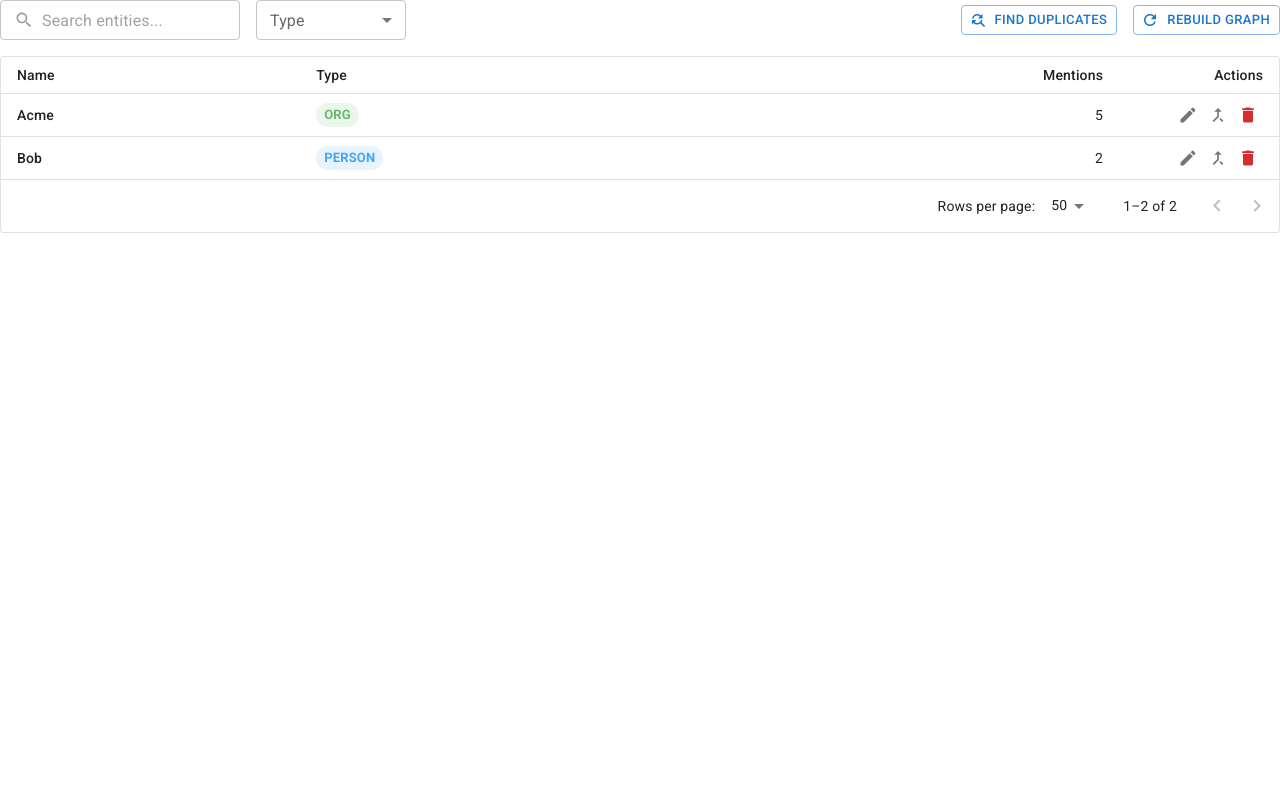
Test case: EntitiesPanel toolbox › find duplicates lists candidates and merging removes the pair
The width and height of the screenshot is (1280, 800).
Expected: the text "Acme" is shown, [1, 94, 300, 136]
Step 1. Click the button "Find Duplicates" → (1039, 20), box [960, 5, 1117, 35]
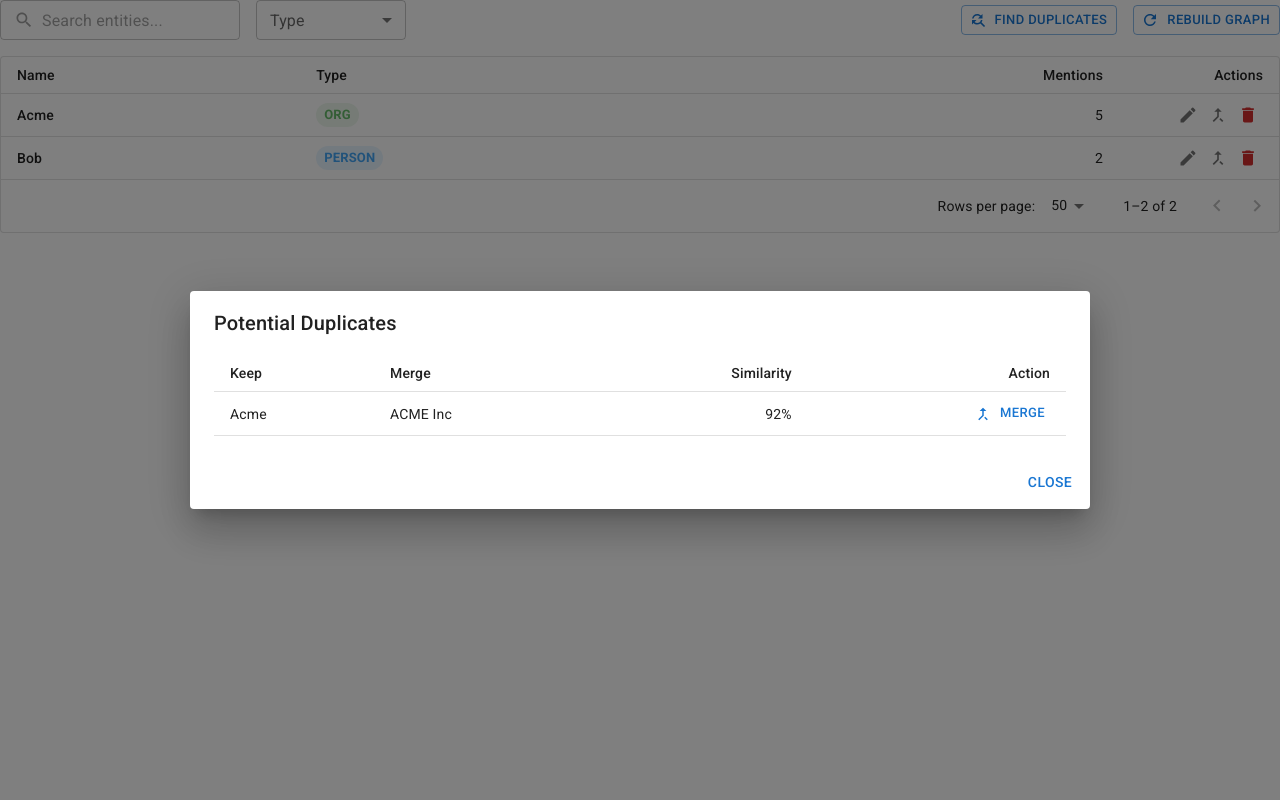
Expected: the heading "Potential Duplicates" is shown, [214, 311, 397, 335]
Expected: the text "ACME Inc" is shown, [374, 392, 592, 436]
Expected: the text "92%" is shown, [592, 392, 808, 436]
Step 2. Click the button "Merge" → (1010, 414), box [971, 398, 1050, 429]
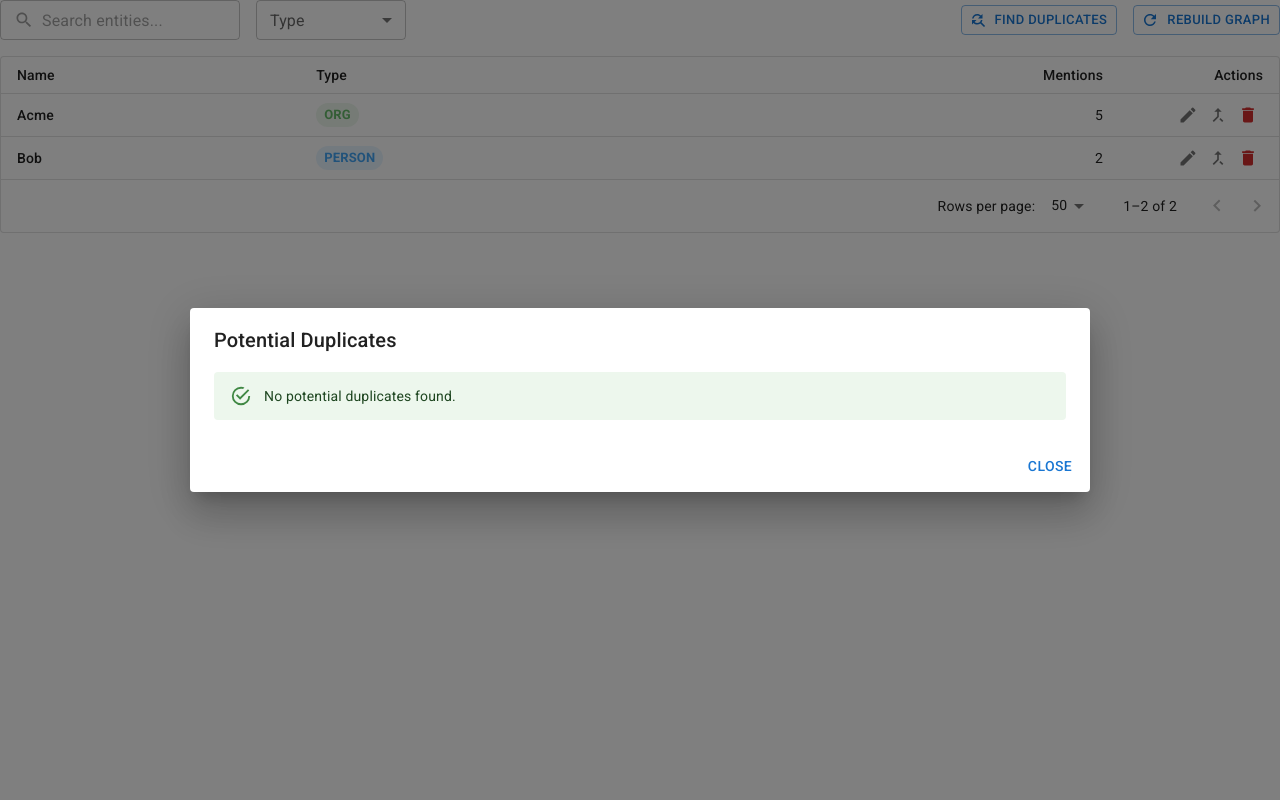
Expected: the text "No potential duplicates found." is shown, [264, 388, 456, 404]
